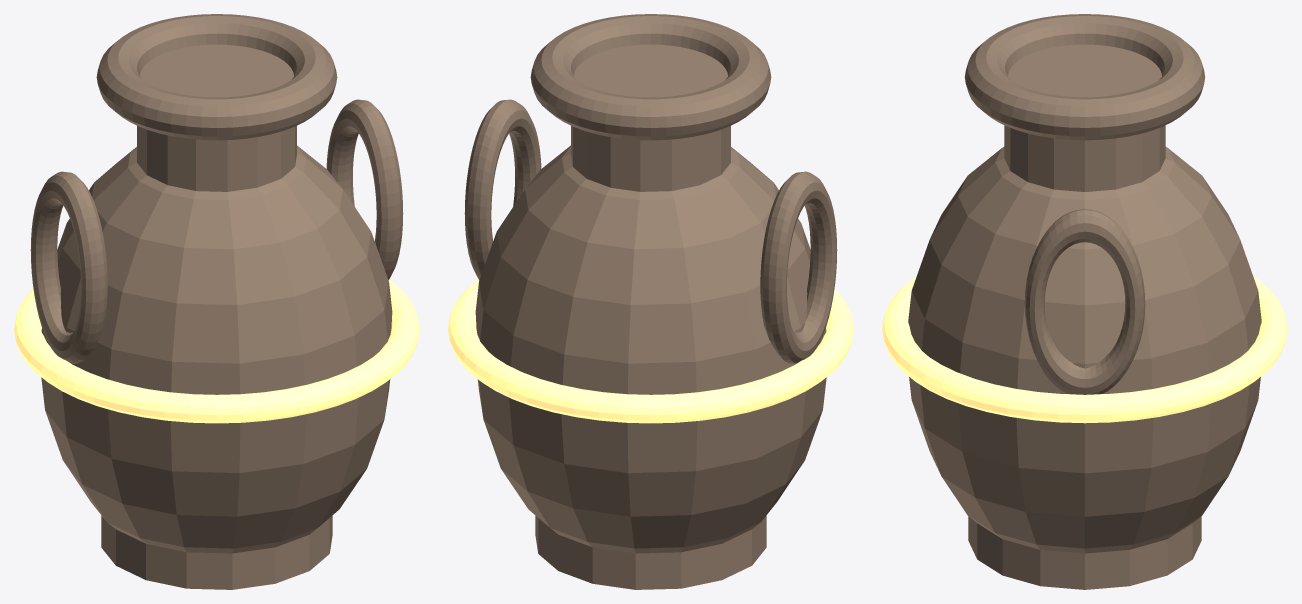
Rendered from AshenCrucibleUrn.glb.
The picture shows the model from 3 angles, left to right: view 1: azimuth 30°, elevation 25°; view 2: azimuth 150°, elevation 25°; view 3: azimuth 270°, elevation 25°; orthographic projection.
Visible parts, largest first — view 1: AshenCrucibleUrn; view 2: AshenCrucibleUrn; view 3: AshenCrucibleUrn.
Part boxes in pixels (x1,y1,x2,y2): AshenCrucibleUrn: [14, 14, 419, 589]; AshenCrucibleUrn: [448, 14, 853, 589]; AshenCrucibleUrn: [882, 14, 1287, 589].
Bounding box in the file's own units: 2.26 × 3.07 × 2.26.
